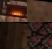furnace: (0, 0, 27, 22)
